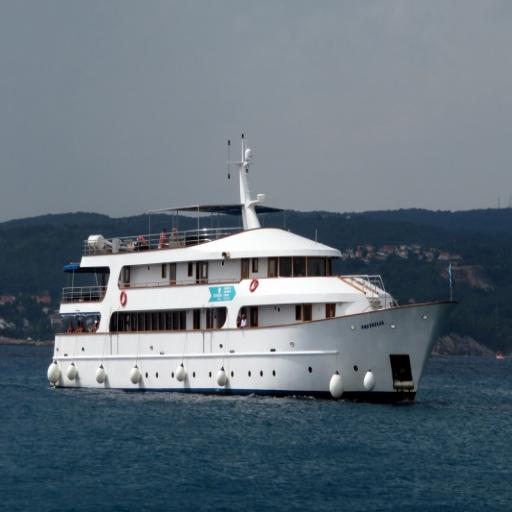cruises: (45, 149, 464, 409)
